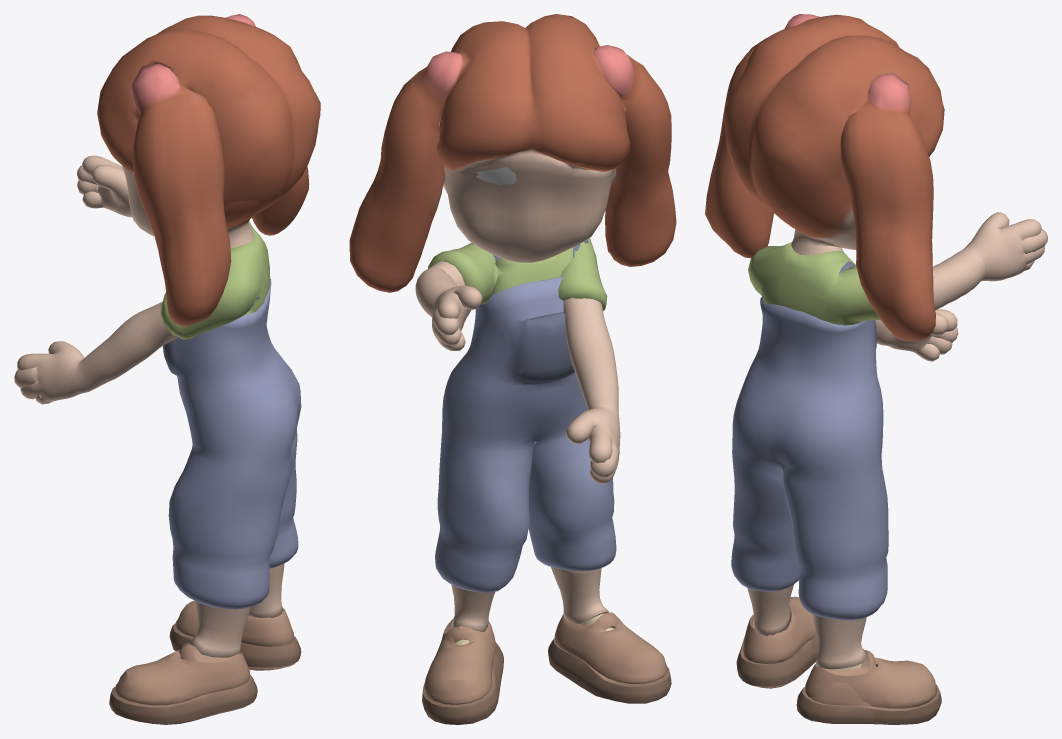
The picture shows the model from 3 angles, left to right: view 1: azimuth 30°, elevation 25°; view 2: azimuth 150°, elevation 25°; view 3: azimuth 270°, elevation 25°; orthographic projection. The views are drawn at different scales.
Visible parts, largest first — view 1: Arms.059; view 2: Arms.059; view 3: Arms.059.
Part boxes in pixels (<box>): Arms.059: <box>14,14,320,724</box>; Arms.059: <box>349,14,676,724</box>; Arms.059: <box>705,14,1047,724</box>.
Size of the model in its own units: 72.21 by 165 by 77.26.
